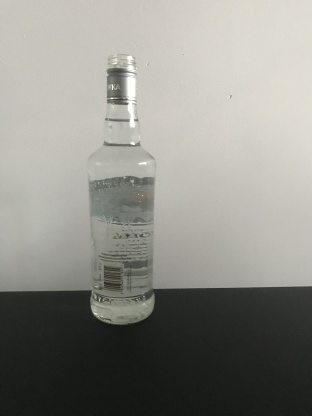nakretka: (104, 52, 139, 105)
